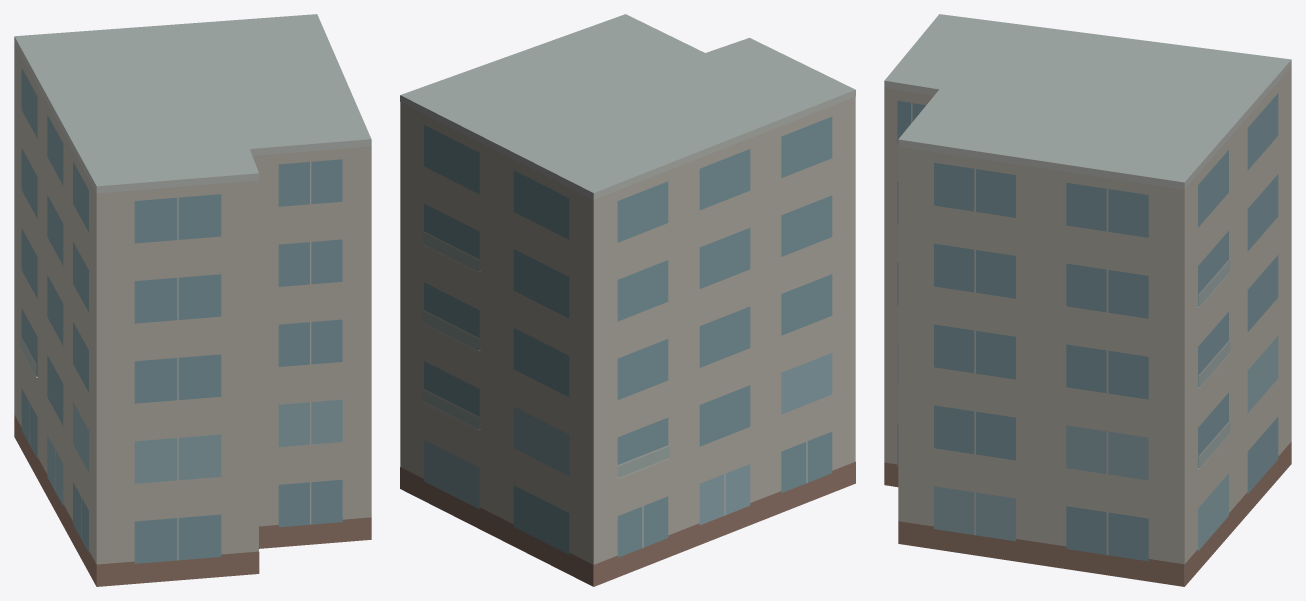
File: survey-upis-32886676.glb
3 views of the same model, side by side, from view 1: azimuth 30°, elevation 25°; view 2: azimuth 150°, elevation 25°; view 3: azimuth 270°, elevation 25° (orthographic). The views are drawn at different scales.
Parts seen in each view (by area): view 1: survey-upis-32886676.tmp; view 2: survey-upis-32886676.tmp; view 3: survey-upis-32886676.tmp.
Boxes of the visible parts, x1,y1,x2,y2 form: survey-upis-32886676.tmp: [14, 14, 371, 586]; survey-upis-32886676.tmp: [400, 14, 855, 586]; survey-upis-32886676.tmp: [884, 14, 1291, 586].
Bounding box in the file's own units: 12.3 × 13.75 × 12.56.
